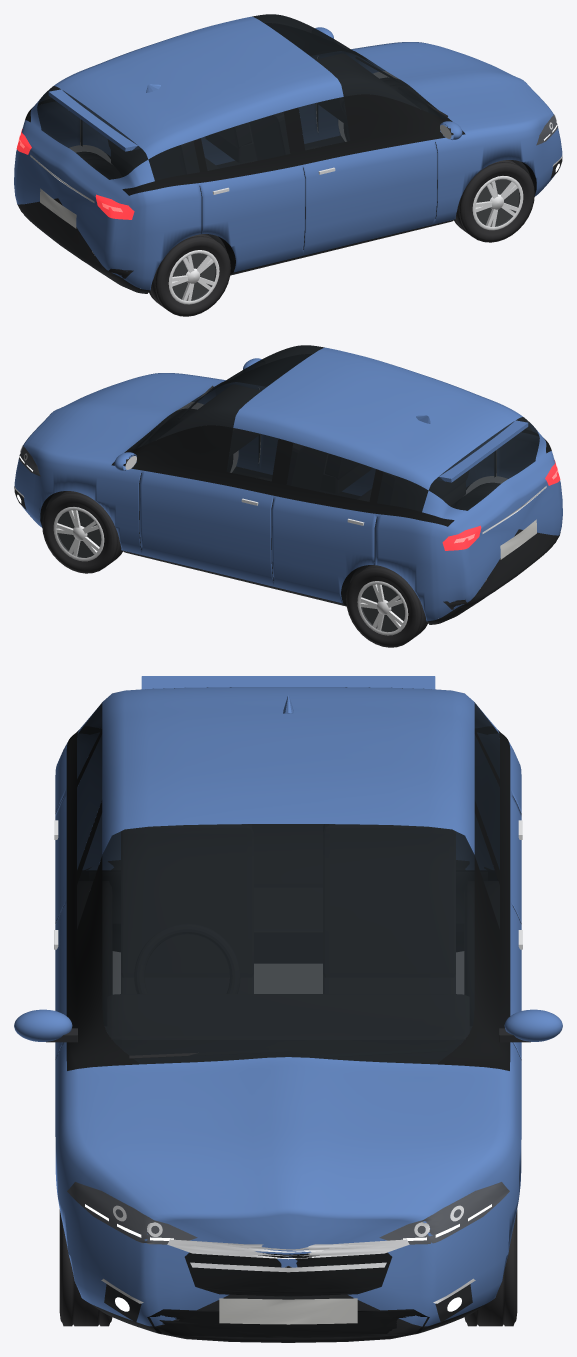
Rendered from maruti-baleno-model-low.glb.
3 renders of one model, top to bottom at view 1: azimuth 30°, elevation 25°; view 2: azimuth 150°, elevation 25°; view 3: azimuth 270°, elevation 25°, orthographic. The views are drawn at different scales.
Visible parts, largest first — view 1: Body, Wheel.004, Wheel.002, Dashboard, SeatBack.002, SeatBack.001, Spoiler, RearBumper, TailLamp, SeatBase, PlateRear, Wheel.003 (+2 smaller); view 2: Body, Wheel.003, Wheel.001, Dashboard, SeatBack.002, SeatBack, Spoiler, RearBumper, TailLamp, SeatBase.001, PlateRear, Wheel.004 (+2 smaller); view 3: Body, Dashboard, SeatBack, SeatBack.001, Grille, SeatBase.002, Headlamp, Intake, SeatBack.002, PlateFront, Spoiler, GrilleChrome0 (+12 smaller).
Boxes of the visible parts, bbox=[...] form: Body: bbox=[14, 14, 562, 293]; Wheel.004: bbox=[149, 234, 230, 316]; Wheel.002: bbox=[454, 160, 534, 242]; Dashboard: bbox=[316, 54, 420, 125]; SeatBack.002: bbox=[108, 140, 199, 180]; SeatBack.001: bbox=[250, 112, 289, 159]; Spoiler: bbox=[48, 89, 138, 151]; RearBumper: bbox=[20, 205, 133, 278]; TailLamp: bbox=[16, 129, 134, 219]; SeatBase: bbox=[206, 124, 255, 162]; PlateRear: bbox=[40, 188, 76, 228]; Wheel.003: bbox=[77, 152, 121, 179]; Body: bbox=[14, 345, 562, 624]; Wheel.003: bbox=[346, 565, 427, 647]; Wheel.001: bbox=[42, 491, 122, 573]; Dashboard: bbox=[156, 385, 260, 456]; SeatBack.002: bbox=[377, 471, 468, 511]; SeatBack: bbox=[287, 443, 326, 490]; Spoiler: bbox=[438, 420, 528, 482]; RearBumper: bbox=[443, 532, 560, 609]; TailLamp: bbox=[442, 460, 560, 550]; SeatBase.001: bbox=[321, 455, 370, 493]; PlateRear: bbox=[500, 519, 536, 559]; Wheel.004: bbox=[455, 483, 499, 510]; Body: bbox=[55, 687, 521, 1342]; Dashboard: bbox=[108, 994, 468, 1063]; SeatBack: bbox=[323, 824, 455, 976]; SeatBack.001: bbox=[121, 824, 253, 976]; Grille: bbox=[184, 1252, 392, 1296]; SeatBase.002: bbox=[254, 888, 322, 962]; Headlamp: bbox=[67, 1182, 509, 1244]; Intake: bbox=[147, 1309, 429, 1337]; SeatBack.002: bbox=[254, 824, 322, 886]; PlateFront: bbox=[219, 1298, 357, 1324]; Spoiler: bbox=[141, 676, 435, 689]; GrilleChrome0: bbox=[167, 1239, 409, 1259].
Bounding box in the file's own units: 3.93 × 1.5 × 2.06.
